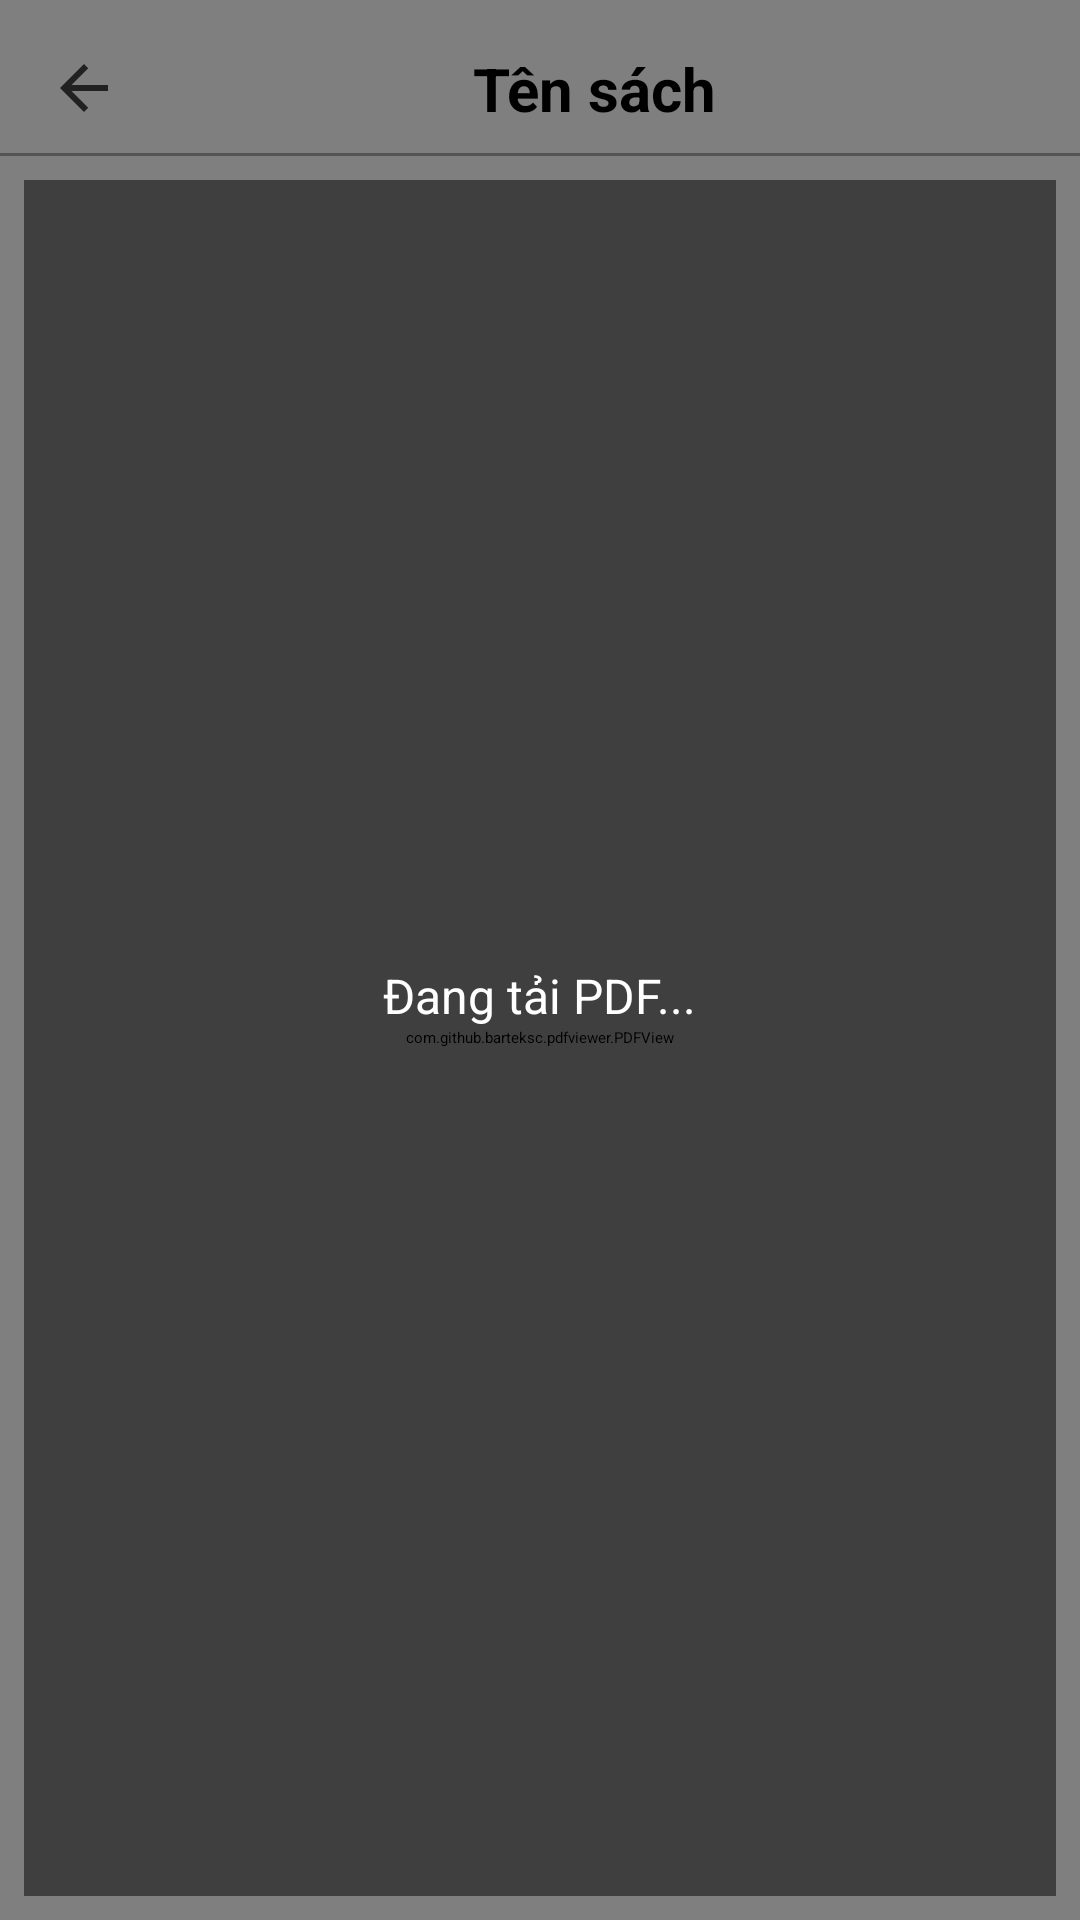

Icons on this 1080×1920 Android screen, each with its box as box=[x1, y1, x2, y2]:
Back: box=[60, 64, 108, 112]
